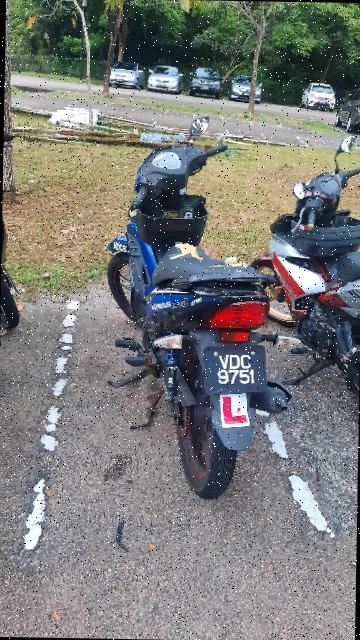License_Plate: (200, 342, 271, 396)
motorcycle: (87, 107, 287, 513)
